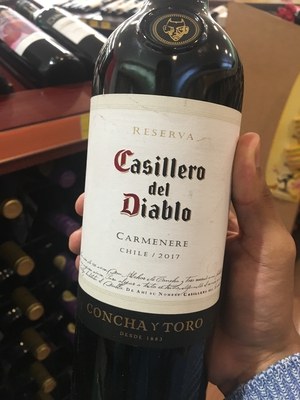casillero del diablo carmenere: (75, 18, 245, 400)
